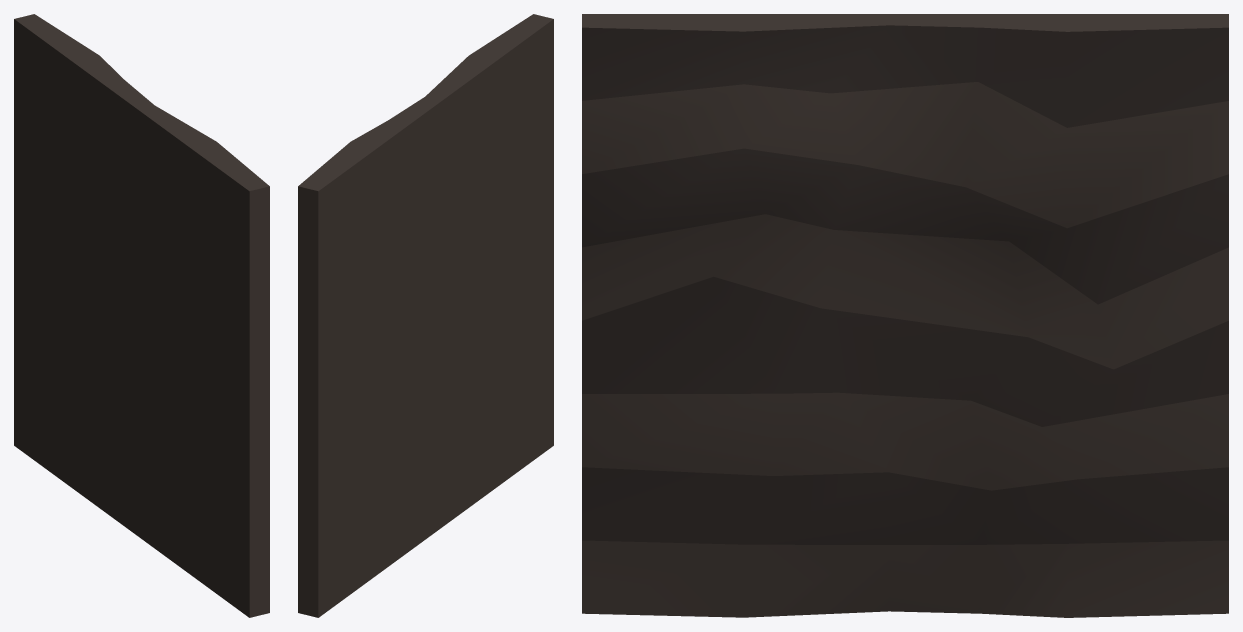
File: Wall_RockFace.fbx
The picture shows the model from 3 angles, left to right: view 1: azimuth 30°, elevation 25°; view 2: azimuth 150°, elevation 25°; view 3: azimuth 270°, elevation 25°; orthographic projection. The views are drawn at different scales.
Parts seen in each view (by area): view 1: Wall_RockFace; view 2: Wall_RockFace; view 3: Wall_RockFace.
Part boxes in pixels (x1=…): Wall_RockFace: x1=14, y1=14, x2=269, y2=617; Wall_RockFace: x1=298, y1=14, x2=553, y2=617; Wall_RockFace: x1=582, y1=14, x2=1228, y2=617.
Bounding box in the file's own units: 0.2221 × 2 × 2.
